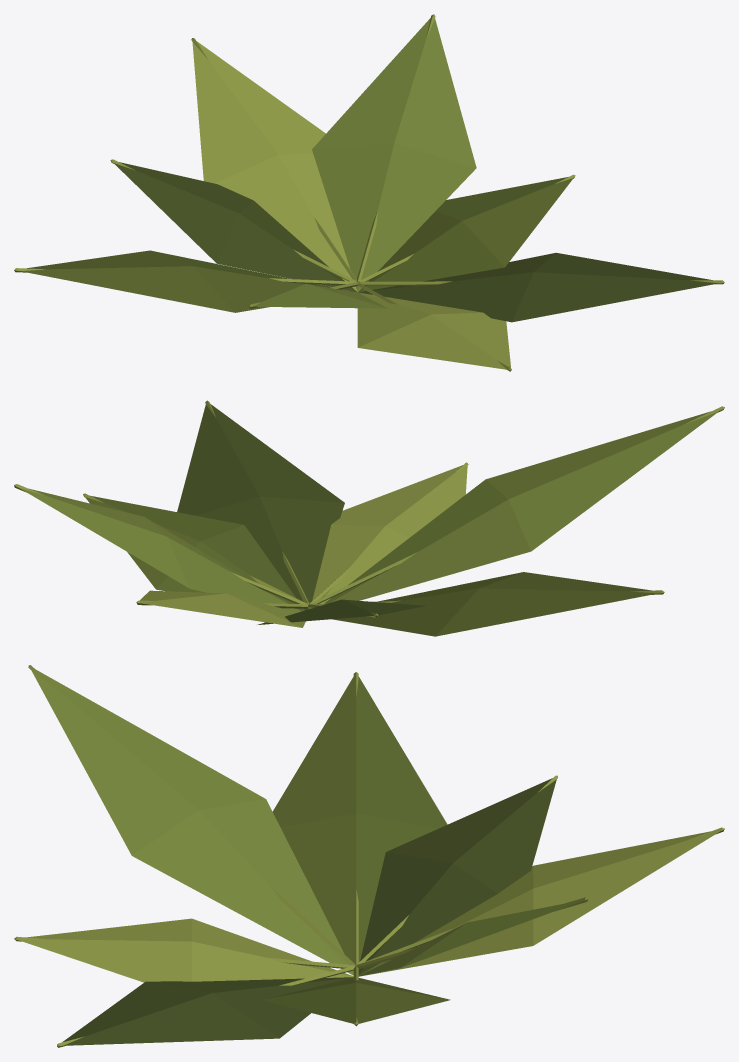
File: broadleaf.glb
3 renders of one model, top to bottom at view 1: azimuth 30°, elevation 25°; view 2: azimuth 150°, elevation 25°; view 3: azimuth 270°, elevation 25°, orthographic. The views are drawn at different scales.
Parts seen in each view (by area): view 1: broadleaf; view 2: broadleaf; view 3: broadleaf.
Boxes of the visible parts, x1,y1,x2,y2 form: broadleaf: (14,14,724,371); broadleaf: (14,400,724,636); broadleaf: (14,665,724,1047).
Bounding box in the file's own units: 2.11 × 0.5548 × 2.02.
